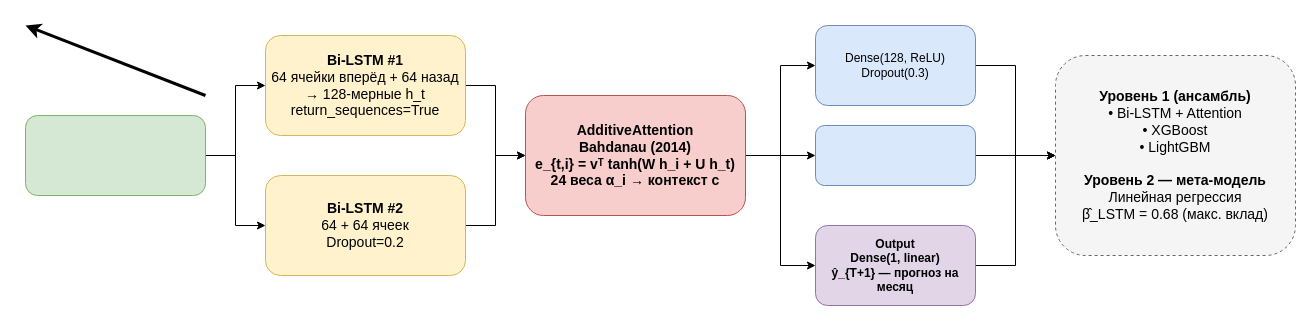
The diagram is 1313 pixels wide and 323 high, and some of its shapes have lost their labels. The shapes that lost their labels are listed below. From the top down, each one's box as (x1, y1, x2, y2) in pixels, then its label:
(24, 114, 206, 196): Input (batch, 24, 18) 24 месяца × 18 признаков
(814, 124, 976, 186): Dense(64, ReLU)
